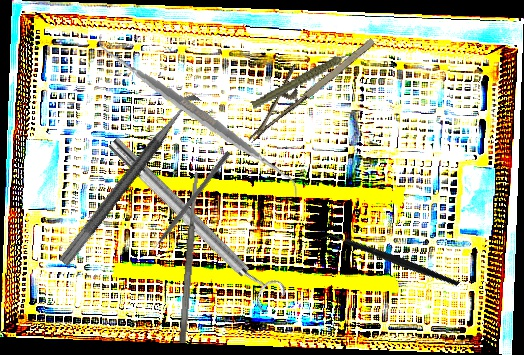Chopper: (319, 193, 461, 329)
Fixation Ring: (100, 127, 290, 317), (57, 90, 214, 278)
Handpiece: (245, 49, 365, 111)
Needle Holder: (228, 17, 379, 144)
Pusher: (143, 149, 232, 260)
Spatula Surgical: (98, 18, 299, 213), (177, 171, 202, 344)
